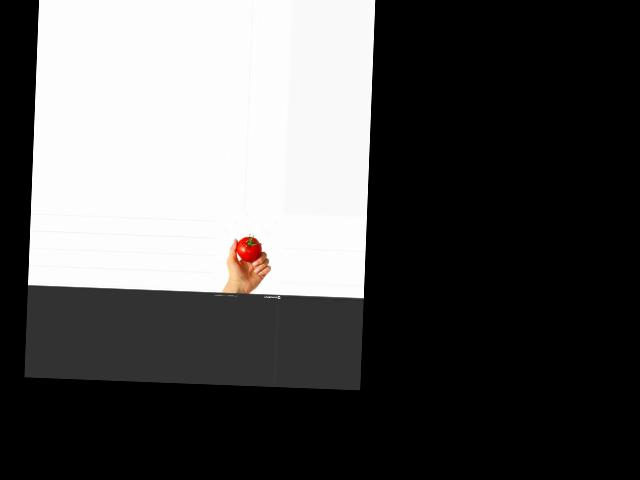tomato: (235, 235, 261, 262)
